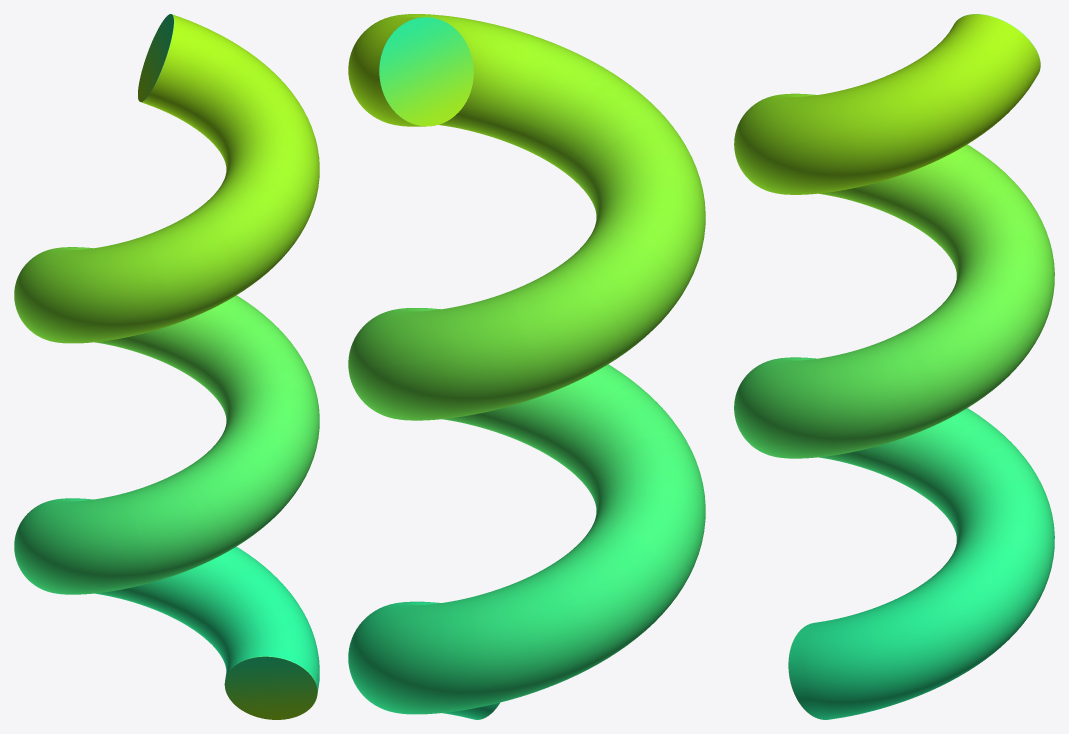
Rendered from Wiggle_Line_03.obj.
3 views of the same model, side by side, from view 1: azimuth 30°, elevation 25°; view 2: azimuth 150°, elevation 25°; view 3: azimuth 270°, elevation 25° (orthographic). The views are drawn at different scales.
Visible parts, largest first — view 1: Corg_1_Purple, Cap_1, Cap_2; view 2: Corg_1_Purple, Cap_2; view 3: Corg_1_Purple.
Part boxes in pixels (x1,y1,x2,y2): Corg_1_Purple: (14,14,319,694); Cap_1: (224,656,317,719); Cap_2: (138,14,173,101); Corg_1_Purple: (348,14,705,719); Cap_2: (379,17,473,126); Corg_1_Purple: (734,14,1054,719).
Bounding box in the file's own units: 144 × 341 × 144.
